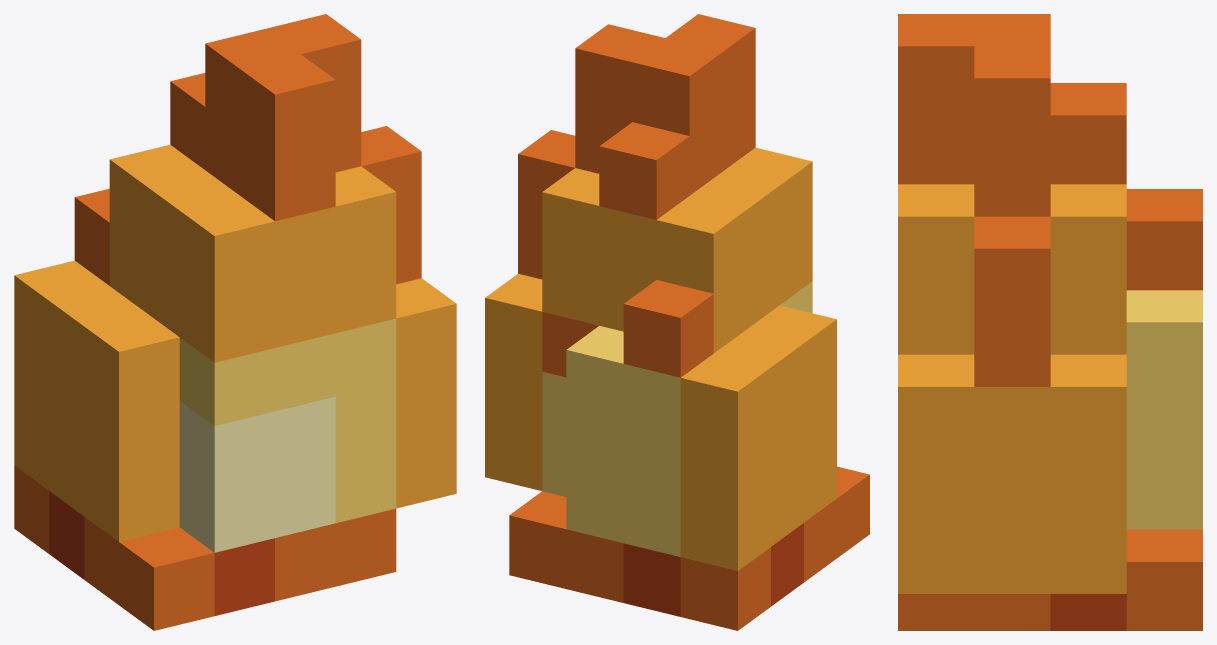
File: brazier_flame.glb
The picture shows the model from 3 angles, left to right: view 1: azimuth 30°, elevation 25°; view 2: azimuth 150°, elevation 25°; view 3: azimuth 270°, elevation 25°; orthographic projection. The views are drawn at different scales.
Visible parts, largest first — view 1: flame_00, flame_01, flame_04, flame_07, flame_06, flame_05, flame_03, flame_02; view 2: flame_00, flame_01, flame_04, flame_02, flame_05, flame_07, flame_03, flame_06; view 3: flame_00, flame_04, flame_03, flame_05, flame_01, flame_02, flame_07, flame_06.
Boxes of the visible parts, x1=… form: flame_00: x1=14, y1=14, x2=456, y2=630; flame_01: x1=14, y1=29, x2=299, y2=415; flame_04: x1=74, y1=188, x2=456, y2=381; flame_07: x1=240, y1=54, x2=335, y2=157; flame_06: x1=240, y1=133, x2=335, y2=221; flame_05: x1=361, y1=126, x2=421, y2=284; flame_03: x1=396, y1=367, x2=456, y2=444; flame_02: x1=170, y1=73, x2=205, y2=169; flame_00: x1=485, y1=24, x2=869, y2=630; flame_01: x1=566, y1=38, x2=836, y2=451; flame_04: x1=485, y1=273, x2=713, y2=377; flame_02: x1=599, y1=122, x2=689, y2=219; flame_05: x1=518, y1=130, x2=575, y2=279; flame_07: x1=665, y1=14, x2=755, y2=111; flame_03: x1=485, y1=357, x2=542, y2=431; flame_06: x1=722, y1=88, x2=755, y2=171; flame_00: x1=898, y1=46, x2=1202, y2=630; flame_04: x1=898, y1=189, x2=1202, y2=455; flame_03: x1=898, y1=456, x2=1126, y2=524; flame_05: x1=974, y1=216, x2=1050, y2=386; flame_01: x1=974, y1=14, x2=1202, y2=391; flame_02: x1=1050, y1=83, x2=1126, y2=184; flame_07: x1=898, y1=14, x2=974, y2=115; flame_06: x1=898, y1=115, x2=974, y2=184.
Size of the model in its own units: 0.625 by 1 by 0.5.
